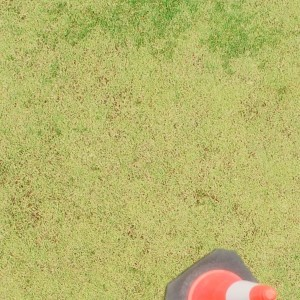traffic cone: (164, 249, 278, 300)
